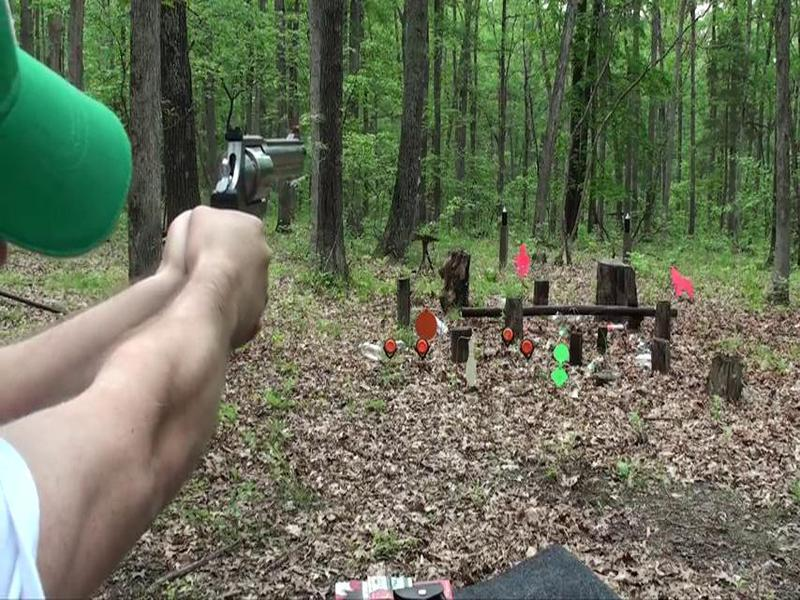Revolver: (182, 120, 319, 270)
